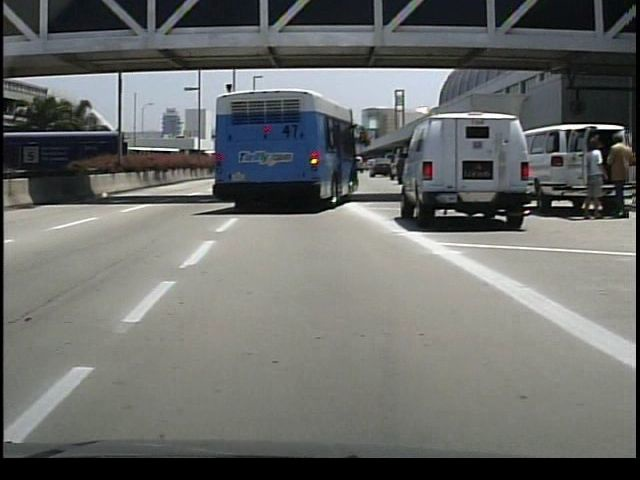person: (598, 130, 630, 220), (577, 134, 601, 220)
